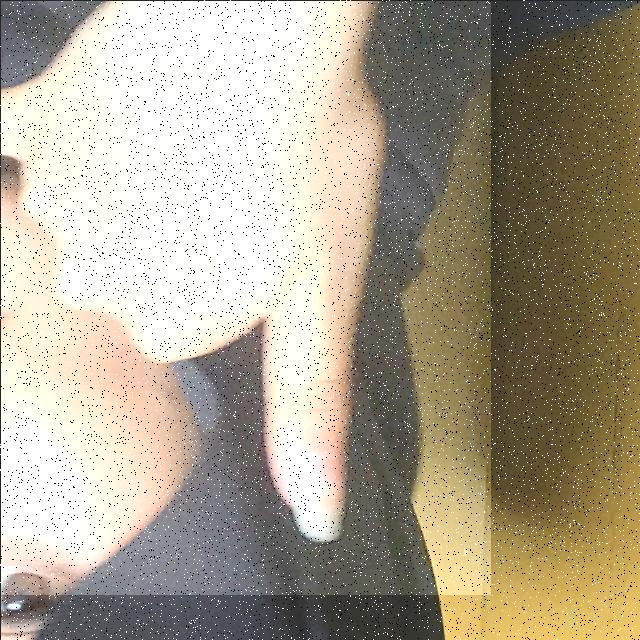telpon: (0, 0, 490, 594)
